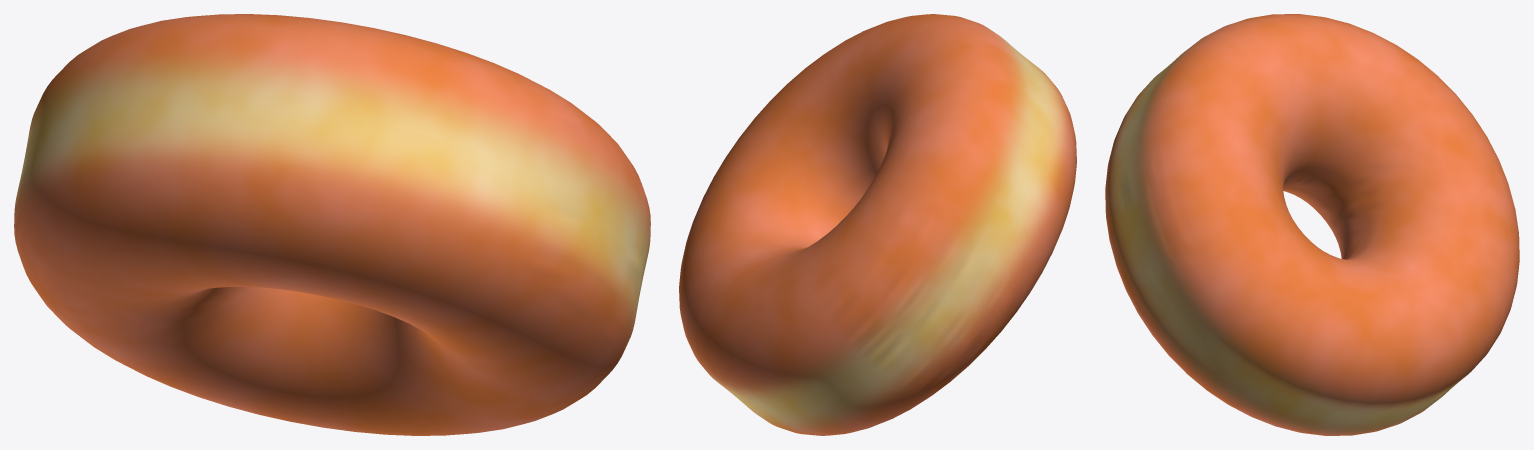
Rendered from human_head.glb.
The picture shows the model from 3 angles, left to right: view 1: azimuth 30°, elevation 25°; view 2: azimuth 150°, elevation 25°; view 3: azimuth 270°, elevation 25°; orthographic projection. The views are drawn at different scales.
Visible parts, largest first — view 1: donut; view 2: donut; view 3: donut.
Part boxes in pixels (x1,y1,x2,y2): donut: (14, 14, 650, 435); donut: (679, 14, 1076, 435); donut: (1105, 14, 1519, 435).
Bounding box in the file's own units: 2.6 × 2.36 × 2.6.
1 material, 1 textured.
